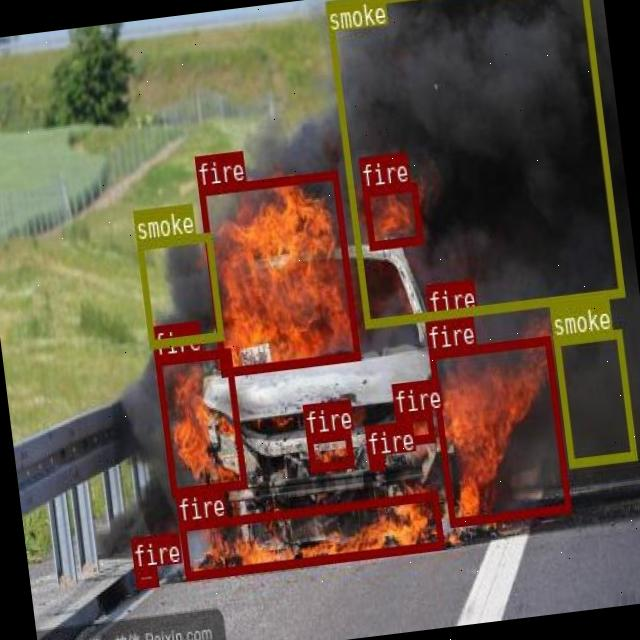fire: (197, 169, 358, 375), (428, 334, 570, 526), (178, 490, 442, 578), (154, 348, 245, 494), (361, 180, 422, 248), (305, 430, 353, 470), (394, 410, 434, 444), (428, 314, 453, 348), (134, 565, 157, 586), (367, 454, 383, 470)
smoke: (324, 0, 624, 325), (553, 328, 636, 466), (136, 232, 222, 346)
